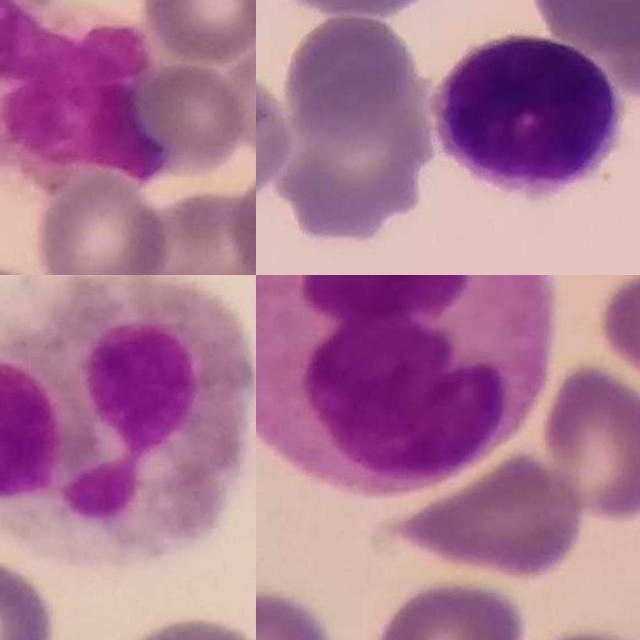Eosinophil: (0, 275, 256, 568), (0, 0, 170, 189)
Lymphocyte: (425, 31, 624, 195)
Monocyte: (256, 275, 553, 500)
